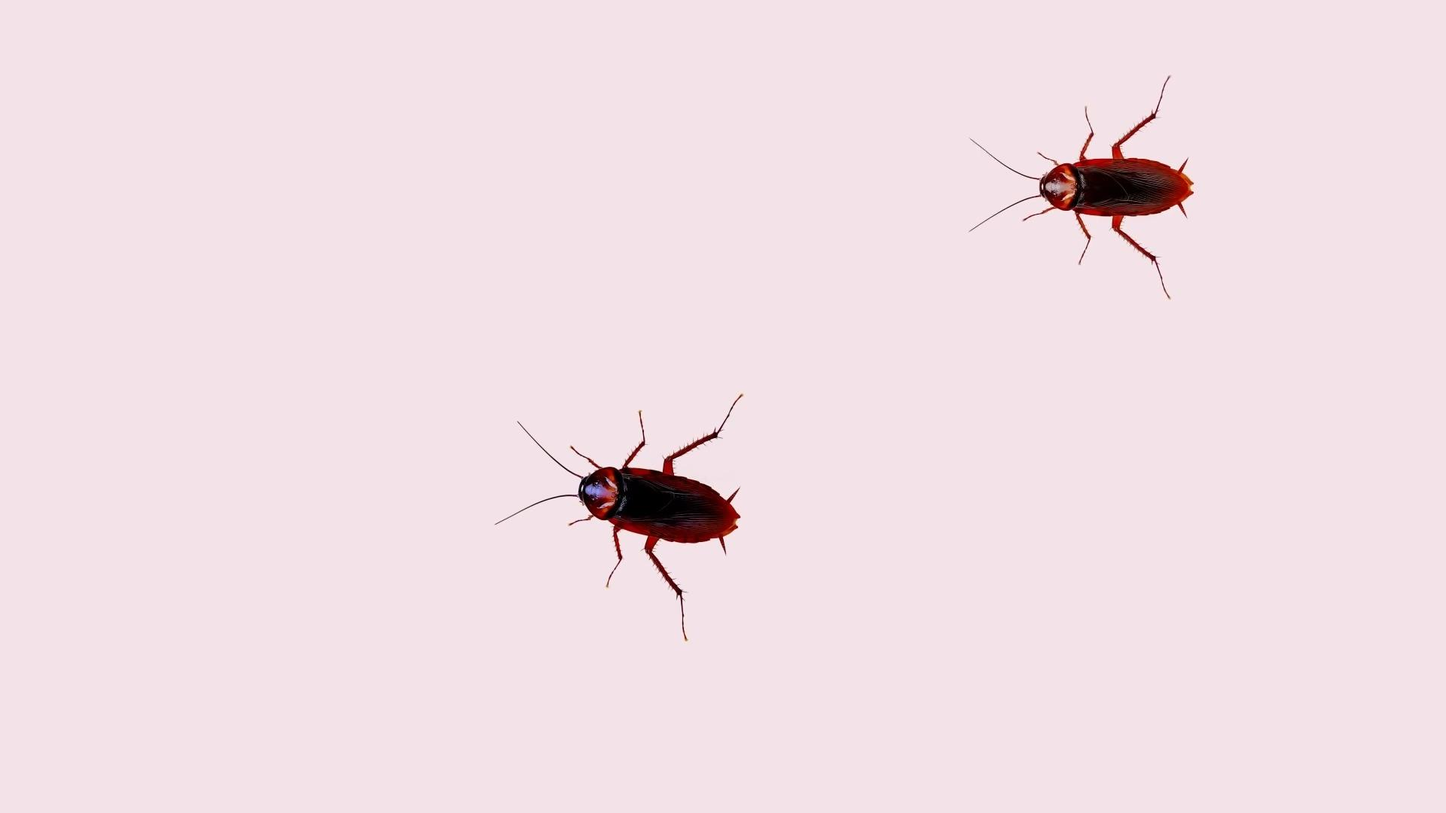cockroach: (979, 106, 1192, 270), (516, 424, 744, 574)
